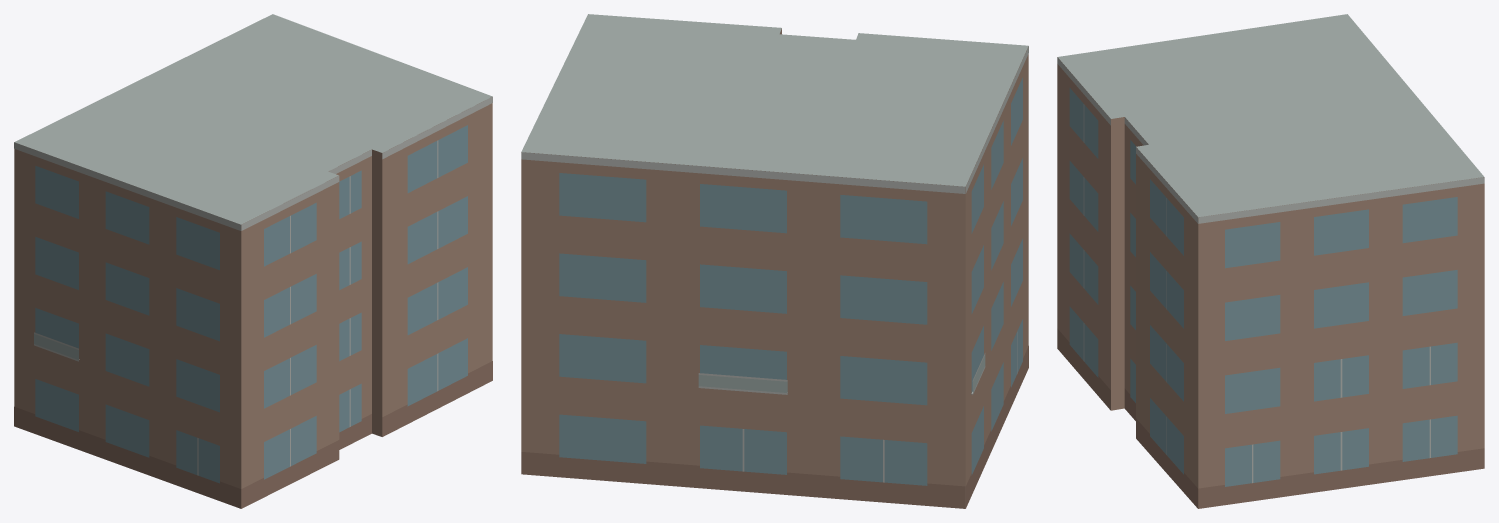
Rendered from survey-upis-32723419.glb.
3 renders of one model, left to right at view 1: azimuth 30°, elevation 25°; view 2: azimuth 150°, elevation 25°; view 3: azimuth 270°, elevation 25°, orthographic. The views are drawn at different scales.
Parts seen in each view (by area): view 1: survey-upis-32723419.tmp; view 2: survey-upis-32723419.tmp; view 3: survey-upis-32723419.tmp.
Part boxes in pixels (bbox=[...]): survey-upis-32723419.tmp: bbox=[14, 14, 492, 508]; survey-upis-32723419.tmp: bbox=[521, 14, 1028, 508]; survey-upis-32723419.tmp: bbox=[1057, 14, 1484, 508].
Size of the model in its own units: 16 by 10.7 by 14.21.
